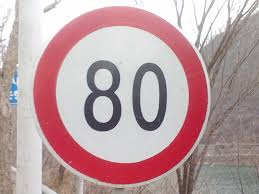Speed_limit_80km: (34, 5, 213, 188)
